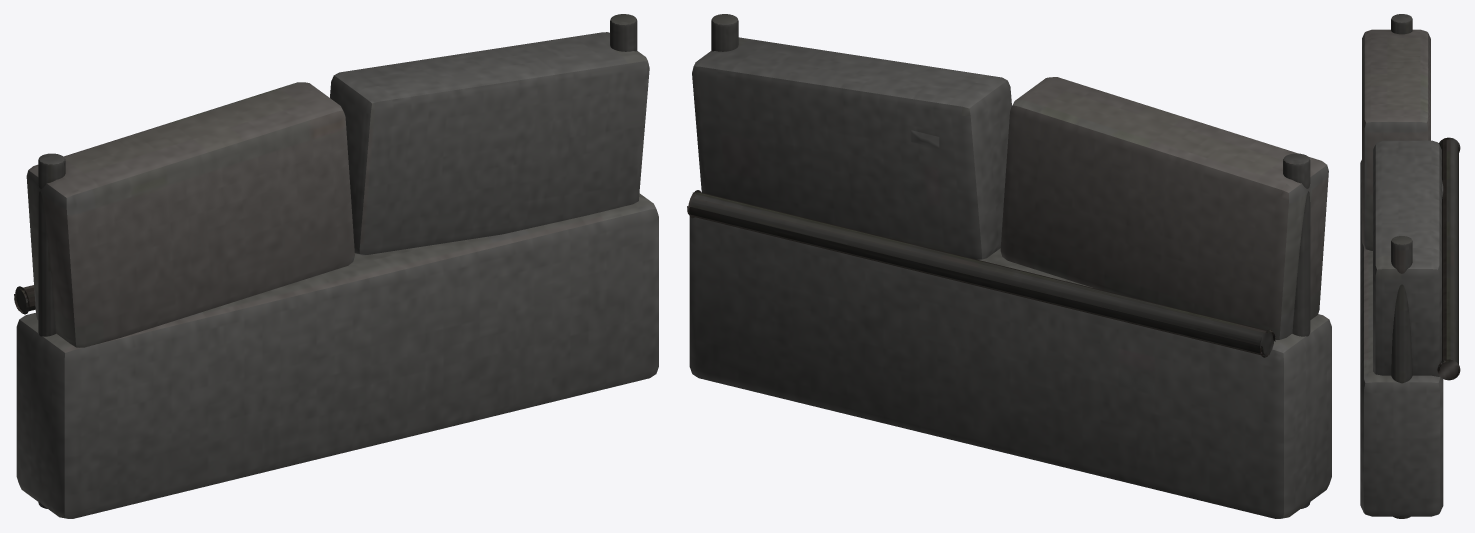
Rendered from scrap_barricade.glb.
3 views of the same model, side by side, from view 1: azimuth 30°, elevation 25°; view 2: azimuth 150°, elevation 25°; view 3: azimuth 270°, elevation 25° (orthographic). The views are drawn at different scales.
Visible parts, largest first — view 1: scrap_barricade; view 2: scrap_barricade; view 3: scrap_barricade.
Part boxes in pixels (<box>): scrap_barricade: <box>14,14,658,518</box>; scrap_barricade: <box>687,14,1331,518</box>; scrap_barricade: <box>1360,14,1460,518</box>.
Size of the model in its own units: 2 by 1.11 by 0.362.
Materials: 1 (1 with a texture image).
